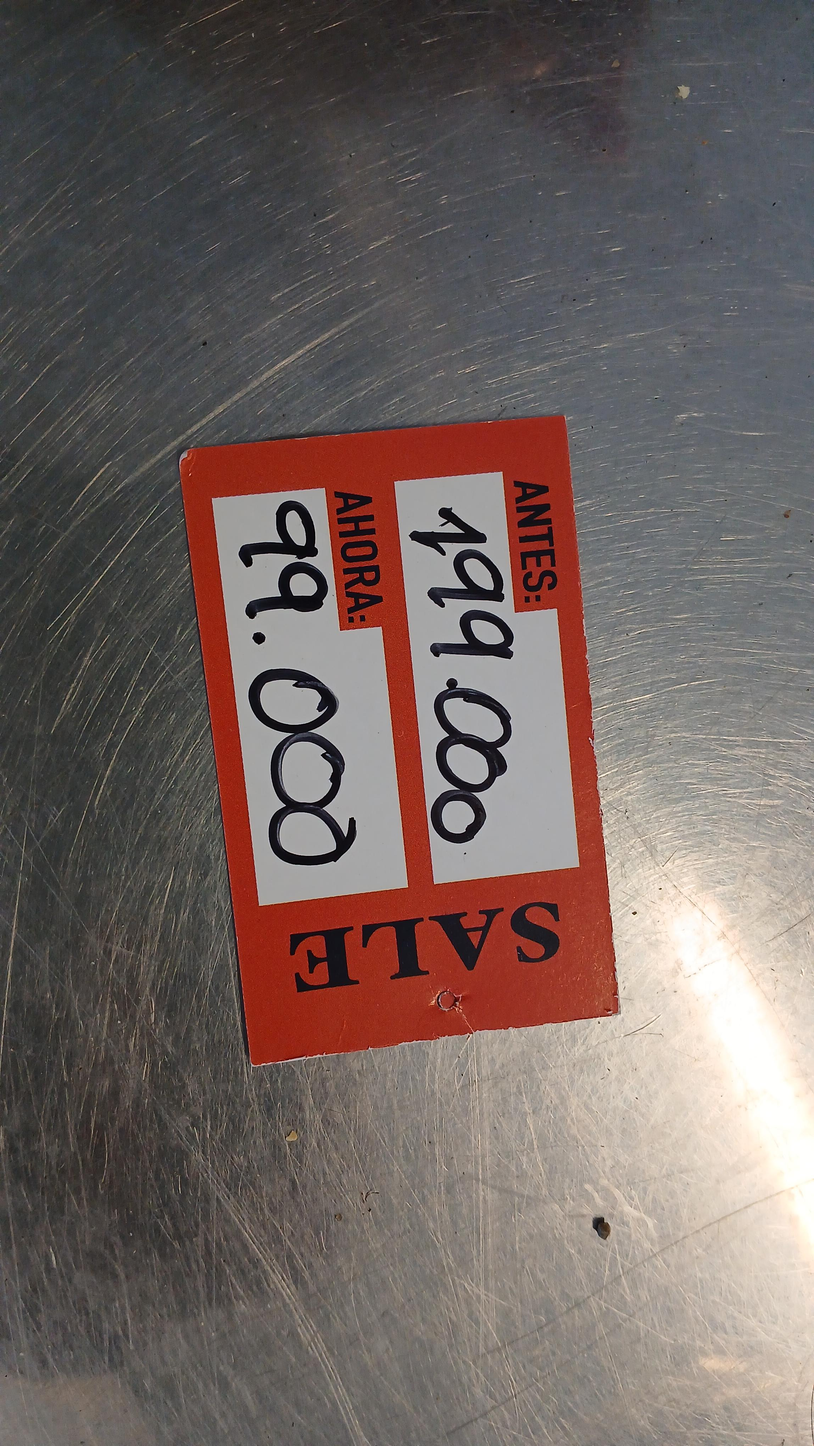Papel: (165, 411, 619, 1069)
